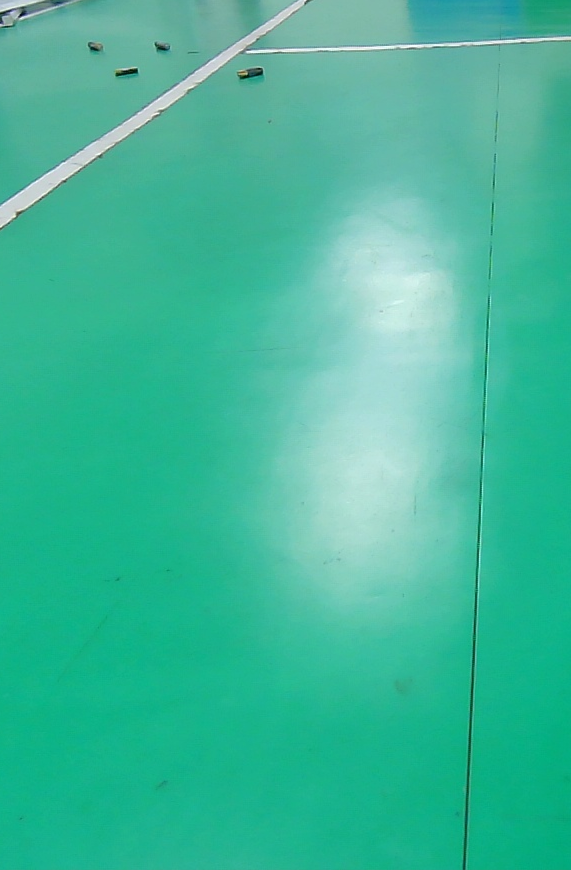battery: (223, 54, 276, 93), (69, 26, 119, 66), (140, 28, 182, 64), (102, 56, 149, 88)
